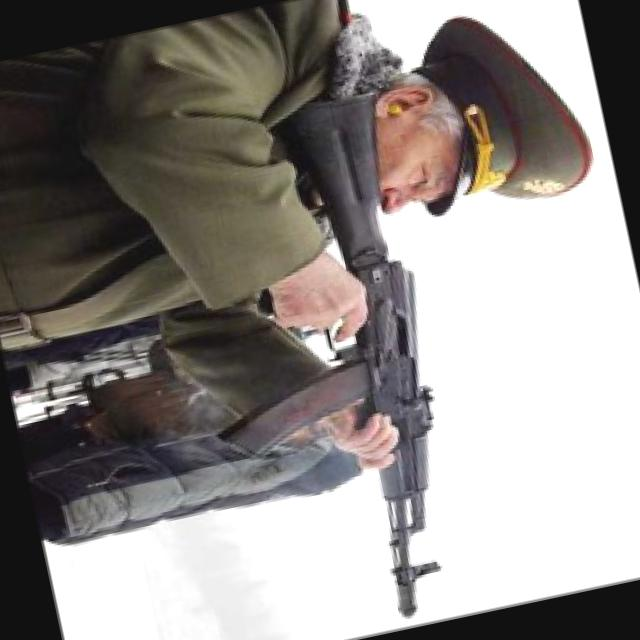long weapon: (248, 98, 466, 616)
